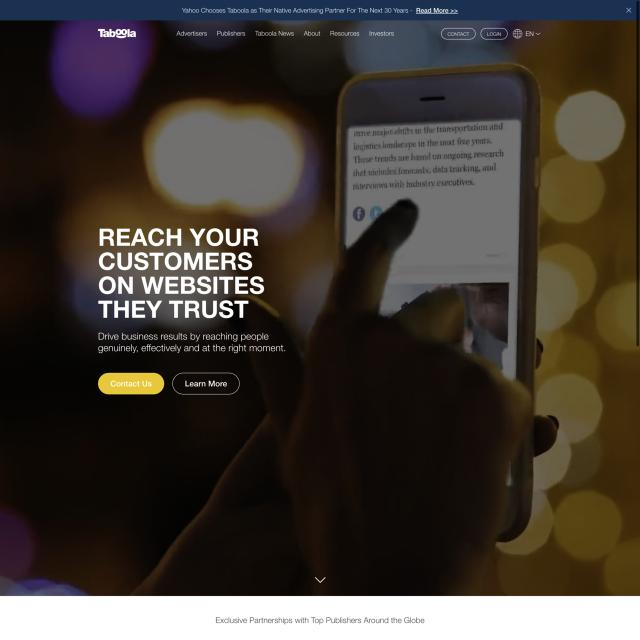logo: (95, 26, 139, 40)
navigation: (173, 28, 396, 40)
